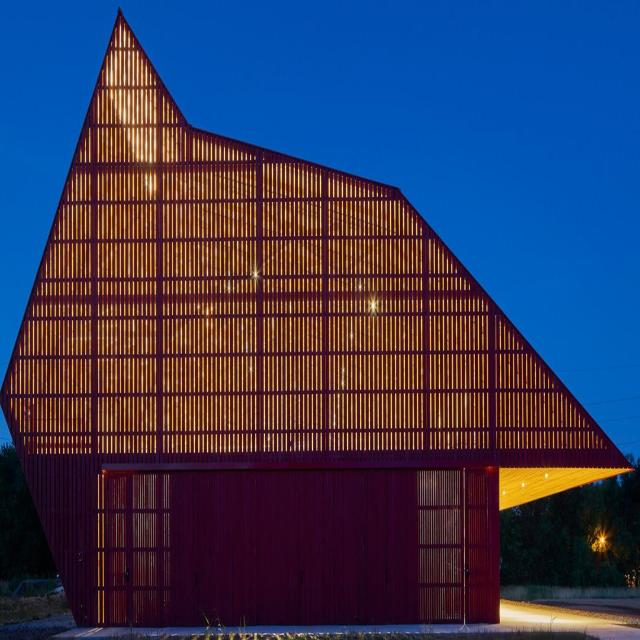wall: (0, 12, 635, 629)
